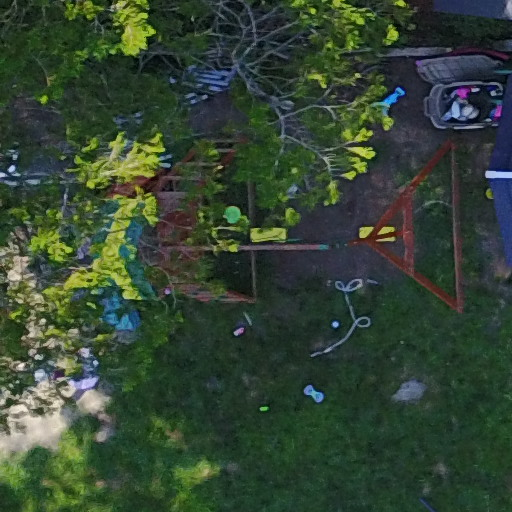clutter: (426, 70, 512, 144)
toy: (361, 73, 410, 120), (294, 384, 338, 407), (220, 198, 250, 229)
